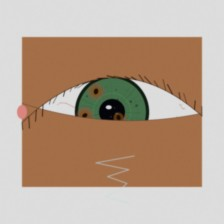foreign_body_visible: (81, 80, 111, 103)
